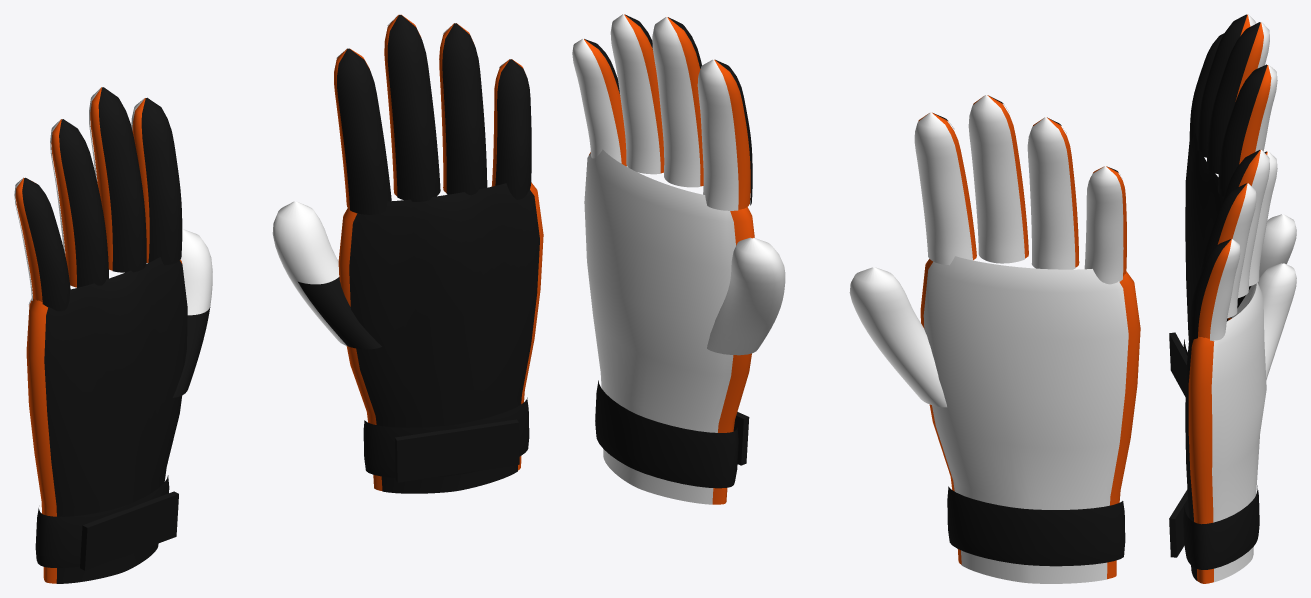
Rendered from goalkeeper_gloves_gk1.glb.
3 views of the same model, side by side, from view 1: azimuth 30°, elevation 25°; view 2: azimuth 150°, elevation 25°; view 3: azimuth 270°, elevation 25° (orthographic). The views are drawn at different scales.
Visible parts, largest first — view 1: Right_Backhand, Left_Backhand, Left_FingerGussets, Right_WristStrap, Left_WristStrap, Right_FingerGussets, Right_PalmLatex, Left_PalmLatex; view 2: Left_PalmLatex, Right_PalmLatex, Left_WristStrap, Right_WristStrap, Right_FingerGussets, Left_FingerGussets, Right_Backhand; view 3: Right_PalmLatex, Left_Backhand, Right_FingerGussets, Right_WristStrap, Right_Backhand, Left_PalmLatex, Left_FingerGussets, Left_WristStrap.
Boxes of the visible parts, box(x1,y1,x2,y2) form: Right_Backhand: box(298, 15, 539, 493); Left_Backhand: box(22, 87, 210, 583); Left_FingerGussets: box(15, 87, 182, 583); Right_WristStrap: box(363, 397, 529, 482); Left_WristStrap: box(35, 475, 178, 570); Right_FingerGussets: box(334, 15, 543, 490); Right_PalmLatex: box(272, 15, 507, 346); Left_PalmLatex: box(14, 87, 212, 315); Left_PalmLatex: box(849, 95, 1128, 583); Right_PalmLatex: box(572, 14, 785, 504); Left_WristStrap: box(947, 486, 1125, 566); Right_WristStrap: box(595, 380, 749, 488); Right_FingerGussets: box(584, 14, 754, 504); Left_FingerGussets: box(918, 95, 1140, 579); Right_Backhand: box(584, 14, 752, 205); Right_PalmLatex: box(1210, 150, 1296, 582); Left_Backhand: box(1185, 14, 1267, 340); Right_FingerGussets: box(1188, 150, 1267, 583); Right_WristStrap: box(1169, 485, 1259, 569); Right_Backhand: box(1185, 150, 1266, 580); Left_PalmLatex: box(1231, 14, 1296, 318); Left_FingerGussets: box(1228, 14, 1271, 320); Left_WristStrap: box(1169, 332, 1187, 396).
Bounding box in the file's own units: 2.61 × 2.21 × 0.6393.
